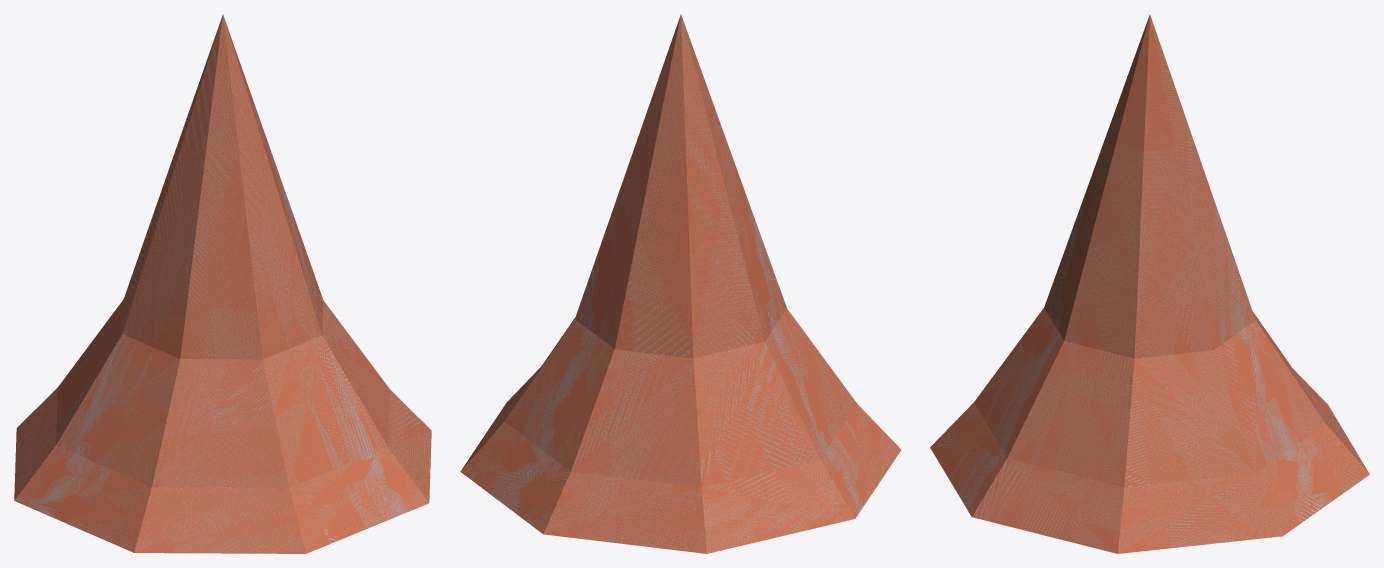
Rendered from Tower8.fbx.
The picture shows the model from 3 angles, left to right: view 1: azimuth 30°, elevation 25°; view 2: azimuth 150°, elevation 25°; view 3: azimuth 270°, elevation 25°; orthographic projection.
Parts seen in each view (by area): view 1: Group1; view 2: Group1; view 3: Group1.
Part boxes in pixels (x1,y1,x2,y2): Group1: (14,14,431,553); Group1: (460,14,901,553); Group1: (930,14,1369,553).
Size of the model in its own units: 2286 by 2612 by 2286.
